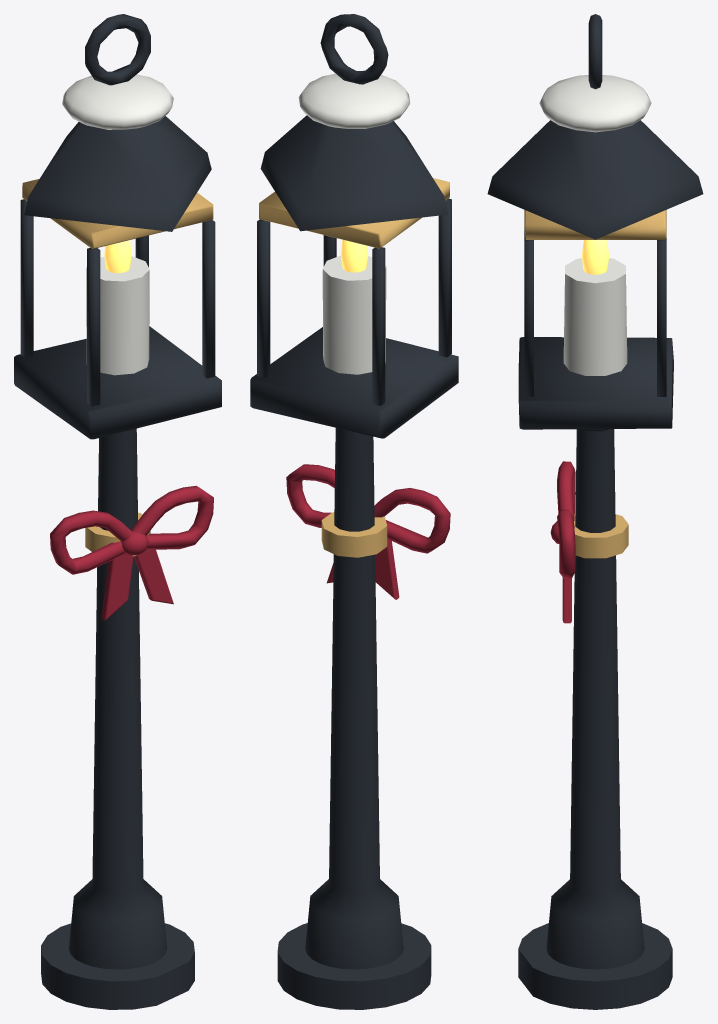
The model's file is xlamp.glb.
3 views of the same model, side by side, from view 1: azimuth 30°, elevation 25°; view 2: azimuth 150°, elevation 25°; view 3: azimuth 270°, elevation 25° (orthographic).
Visible parts, largest first — view 1: ink, cream, berry, brass, light; view 2: ink, cream, berry, brass, light; view 3: ink, cream, brass, berry, light.
Boxes of the visible parts, x1,y1,x2,y2 form: ink: (14, 14, 221, 1009); cream: (62, 74, 173, 375); berry: (50, 485, 213, 620); brass: (22, 179, 213, 556); light: (104, 240, 131, 273); ink: (250, 14, 458, 1009); cream: (298, 73, 410, 374); berry: (286, 464, 450, 599); brass: (259, 178, 449, 557); light: (340, 240, 368, 272); ink: (487, 14, 703, 1009); cream: (539, 75, 651, 375); brass: (524, 210, 666, 558); berry: (550, 461, 575, 623); light: (581, 240, 609, 274).
Size of the model in its own units: 0.6159 by 3.02 by 0.6159.
